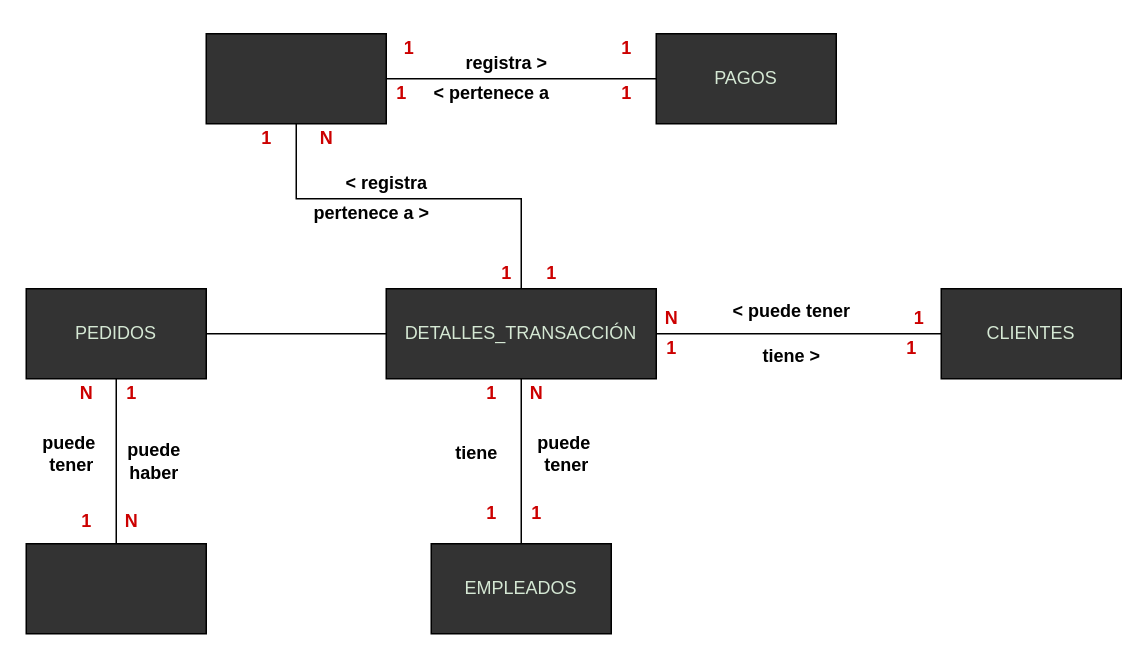
This 1148x660 diagram has some shape labels left out. The shapes that lost their labels are listed below. From the top down, each one's box as (x1, y1, x2, y2) in pixels, then its label:
(205, 32, 386, 124): FACTURACIÓN
(25, 542, 206, 634): PRODUCTOS
